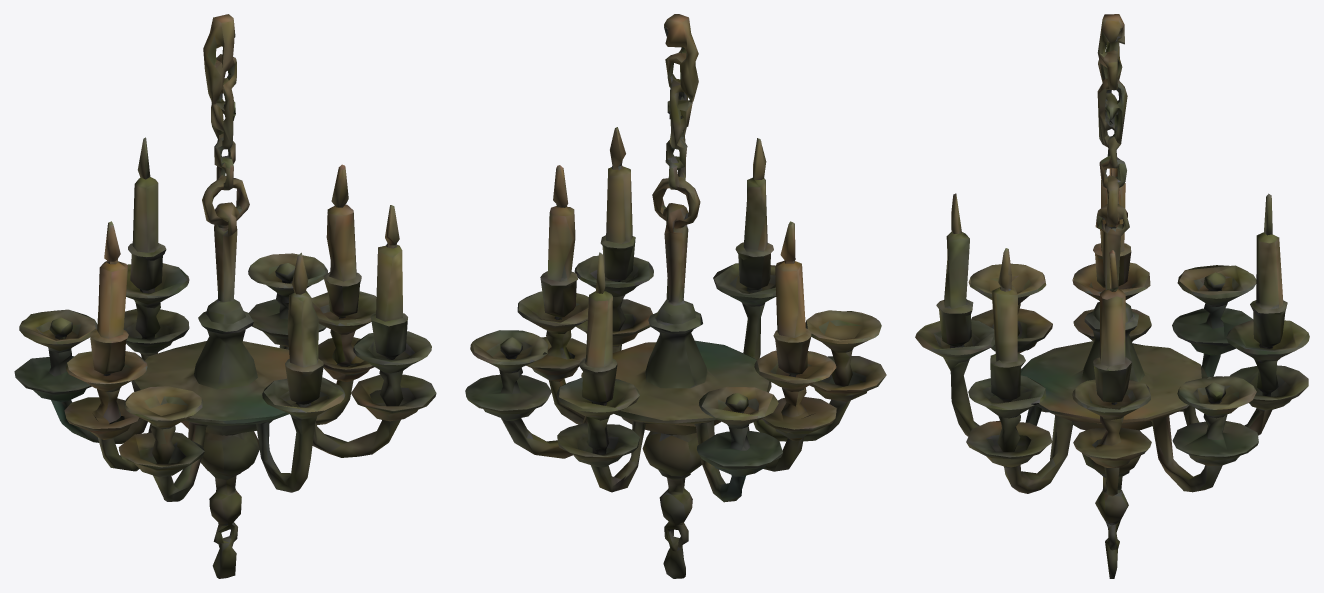
File: ancient-bronze-chandelier-v001.glb
3 views of the same model, side by side, from view 1: azimuth 30°, elevation 25°; view 2: azimuth 150°, elevation 25°; view 3: azimuth 270°, elevation 25° (orthographic).
Parts seen in each view (by area): view 1: ancient-bronze-chandelier; view 2: ancient-bronze-chandelier; view 3: ancient-bronze-chandelier.
Boxes of the visible parts, x1,y1,x2,y2 form: ancient-bronze-chandelier: (14, 14, 436, 578); ancient-bronze-chandelier: (465, 14, 886, 578); ancient-bronze-chandelier: (915, 14, 1309, 578).
Size of the model in its own units: 0.7844 by 1.35 by 0.8595.
1 material, 1 textured.
